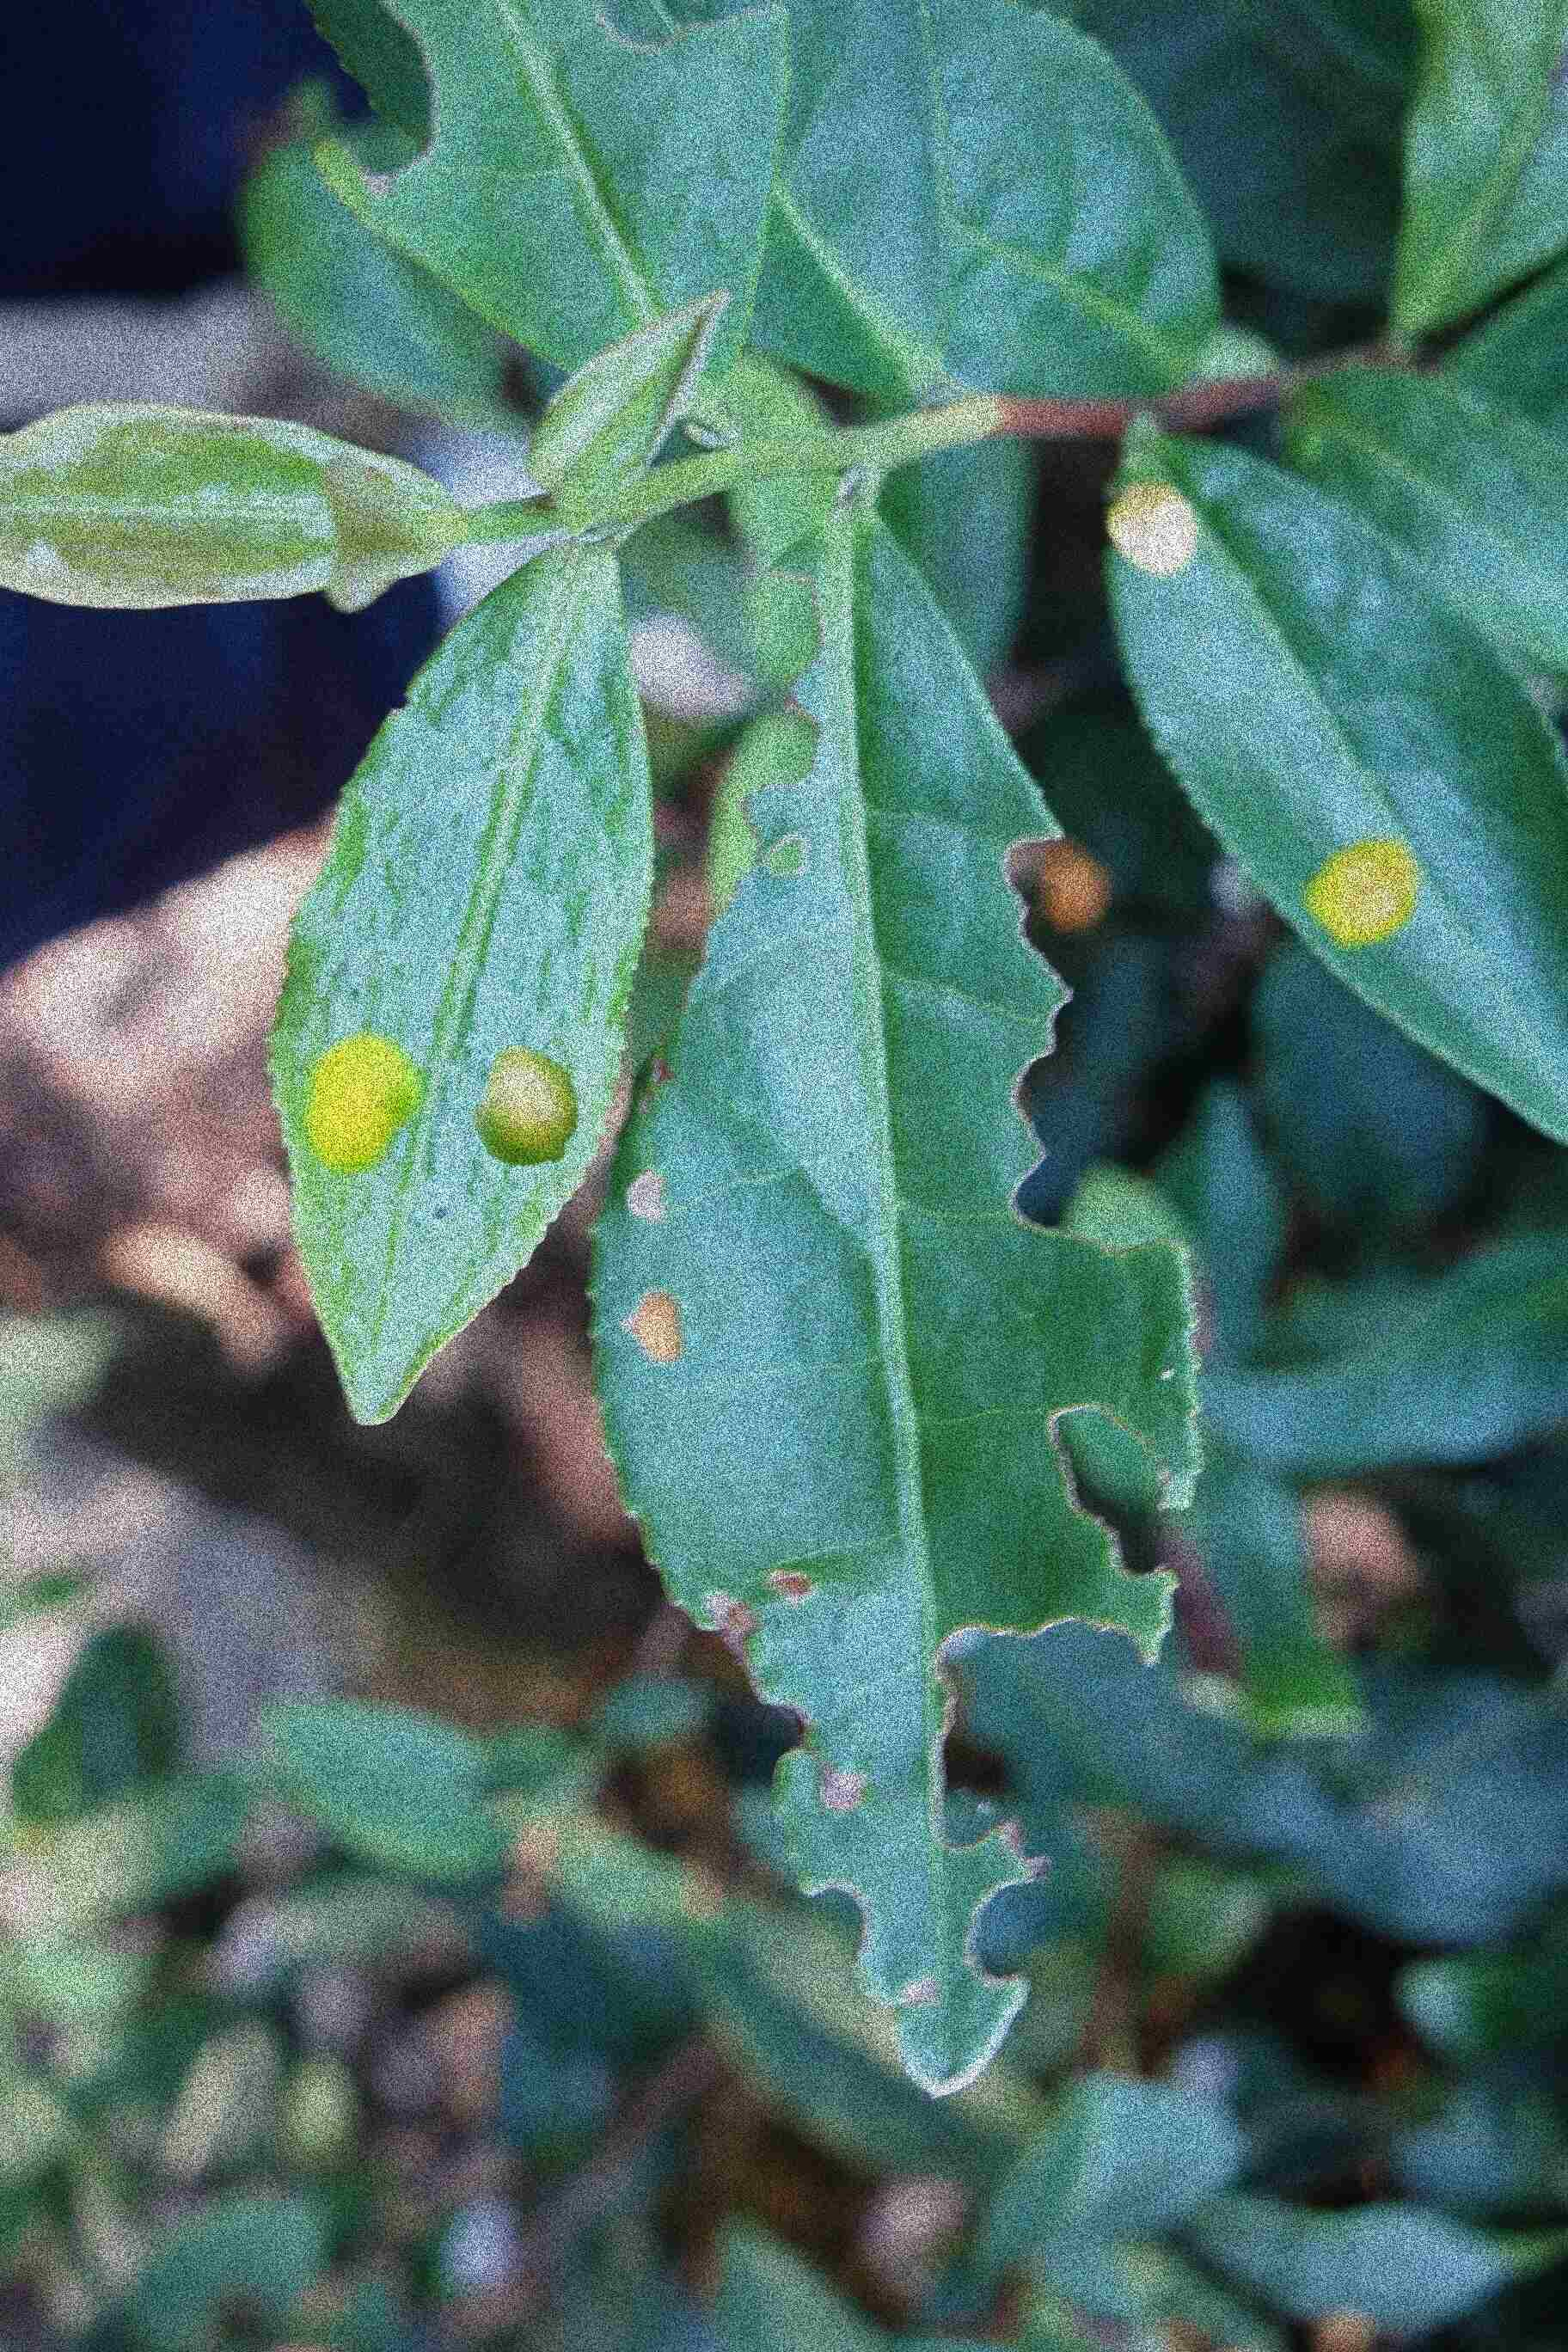chabing_high: (266, 555, 663, 1438), (1095, 415, 1568, 1151)
chihuo_high: (590, 464, 1206, 2100), (311, 0, 796, 402)
tanju_low: (2, 402, 464, 616)
